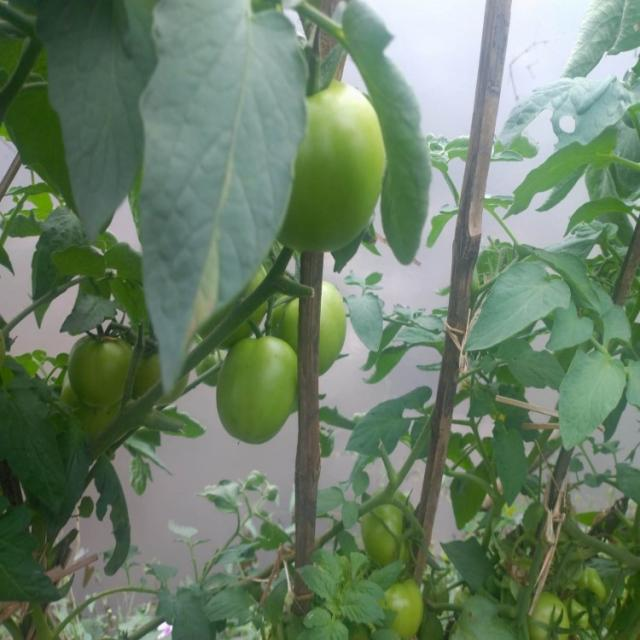tomato: (284, 79, 389, 255), (214, 339, 299, 443), (200, 276, 303, 333), (71, 329, 128, 403), (135, 338, 182, 402), (320, 278, 350, 374), (358, 500, 403, 558), (389, 576, 427, 636), (532, 584, 572, 640), (68, 406, 128, 435), (577, 561, 605, 604)
